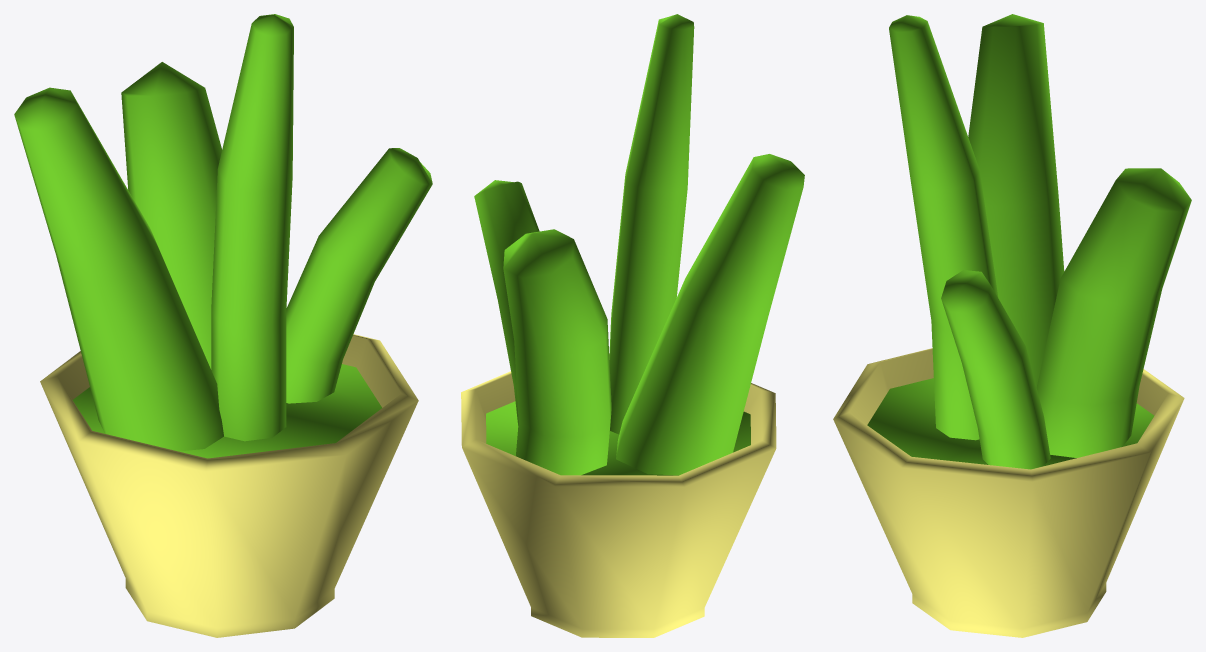
Rendered from Potted Plant 3.fbx.
3 renders of one model, left to right at view 1: azimuth 30°, elevation 25°; view 2: azimuth 150°, elevation 25°; view 3: azimuth 270°, elevation 25°, orthographic. The views are drawn at different scales.
Visible parts, largest first — view 1: Node 0; view 2: Node 0; view 3: Node 0.
Boxes of the visible parts, bbox=[...] form: Node 0: bbox=[14, 14, 432, 637]; Node 0: bbox=[461, 14, 804, 637]; Node 0: bbox=[833, 14, 1191, 637].
Bounding box in the file's own units: 0.2419 × 0.4297 × 0.2804.
